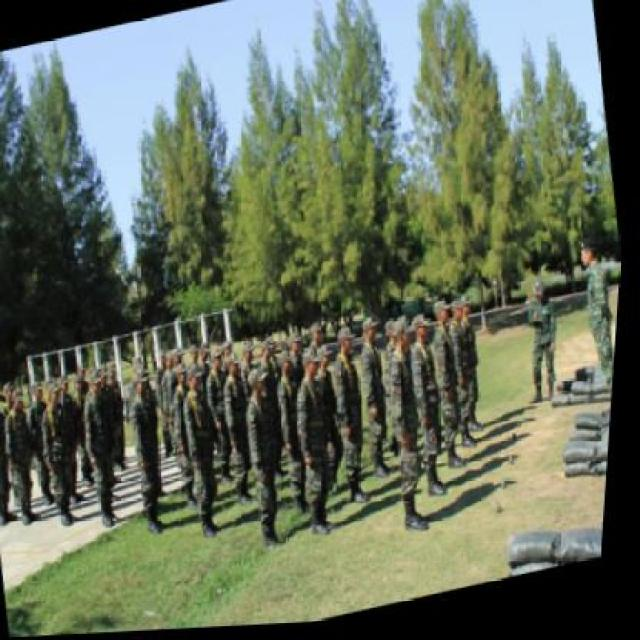MIL_Pax: (372, 316, 456, 515), (397, 308, 474, 512), (232, 368, 310, 560), (282, 353, 360, 533), (559, 235, 626, 443), (348, 305, 419, 484), (120, 366, 189, 548), (422, 292, 484, 479), (174, 369, 240, 537), (76, 370, 144, 533), (325, 337, 389, 506), (439, 285, 503, 453), (515, 270, 579, 418), (34, 380, 94, 525), (0, 384, 54, 530), (154, 341, 201, 432), (0, 382, 25, 504), (202, 331, 249, 391)
